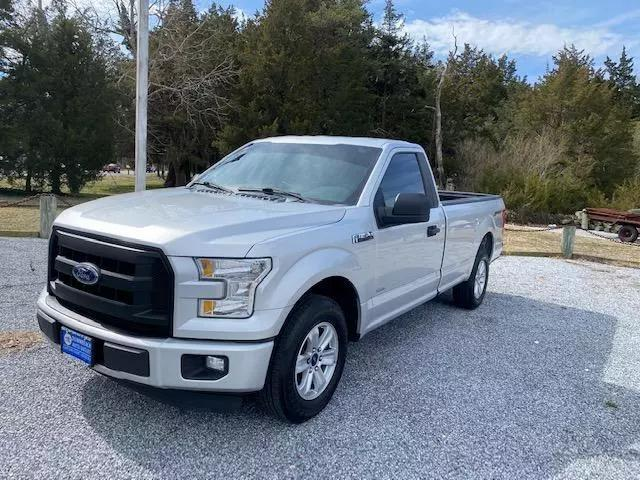pickup-truck: (35, 134, 508, 425)
